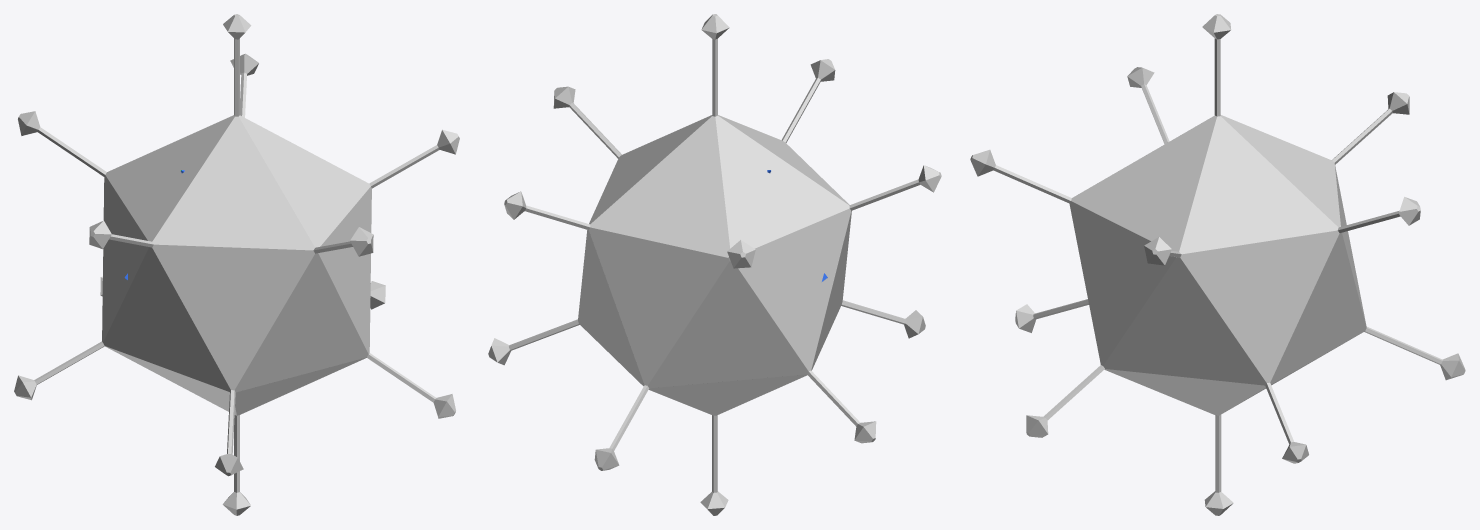
Rendered from 01_001_anim.fbx.
The picture shows the model from 3 angles, left to right: view 1: azimuth 30°, elevation 25°; view 2: azimuth 150°, elevation 25°; view 3: azimuth 270°, elevation 25°; orthographic projection.
Parts seen in each view (by area): view 1: GD_mesh; view 2: GD_mesh; view 3: GD_mesh.
Part boxes in pixels (bbox=[...]): GD_mesh: bbox=[14, 14, 459, 515]; GD_mesh: bbox=[488, 14, 941, 515]; GD_mesh: bbox=[970, 14, 1465, 515].
Size of the model in its own units: 540 by 673 by 605.
2 materials, 1 textured.
